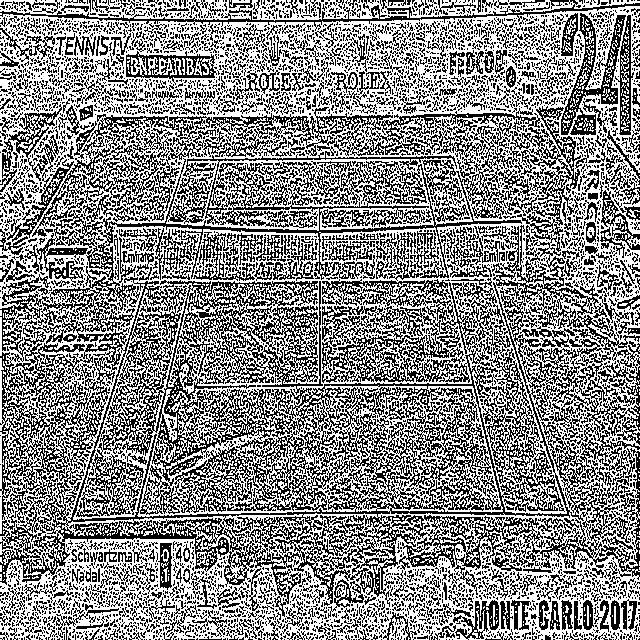left side: (71, 159, 219, 520), (419, 156, 567, 514)
player: (155, 358, 195, 482), (298, 66, 322, 135)
